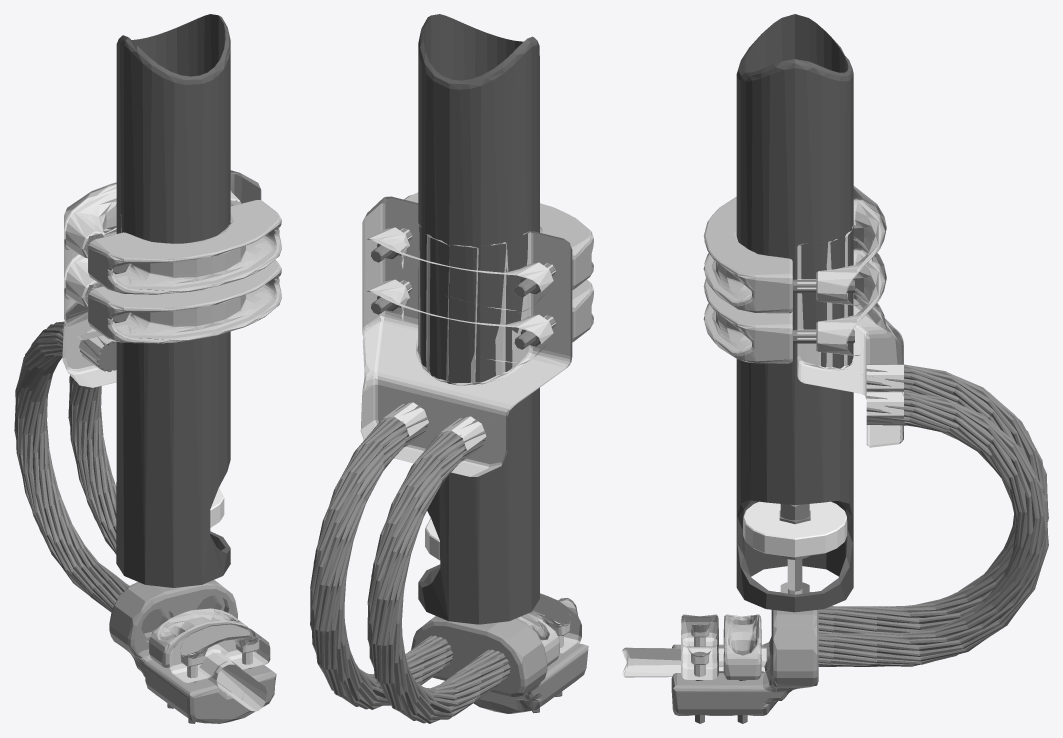
File: z9z0flexibletc1.gltf
3 renders of one model, left to right at view 1: azimuth 30°, elevation 25°; view 2: azimuth 150°, elevation 25°; view 3: azimuth 270°, elevation 25°, orthographic. The views are drawn at different scales.
Visible parts, largest first — view 1: Gt7Sj3Sa.001, Gt7Sj3Sa, Gt7Sj3Sa.003, Gt7Sj3Sa.004, Gt7Sj3Sa.006, Gt7Sj3Sa.002, Gt7Sj3Sa.008, Gt7Sj3Sa.007, Gt7Sj3Sa.009; view 2: Gt7Sj3Sa.001, Gt7Sj3Sa.002, Gt7Sj3Sa, Gt7Sj3Sa.006, Gt7Sj3Sa.003, Gt7Sj3Sa.008, Gt7Sj3Sa.004, Gt7Sj3Sa.007; view 3: Gt7Sj3Sa.001, Gt7Sj3Sa, Gt7Sj3Sa.002, Gt7Sj3Sa.006, Gt7Sj3Sa.003, Gt7Sj3Sa.005, Gt7Sj3Sa.004, Gt7Sj3Sa.007, Gt7Sj3Sa.008, Gt7Sj3Sa.009.
Part boxes in pixels (x1,y1,x2,y2): Gt7Sj3Sa.001: [116, 14, 230, 587]; Gt7Sj3Sa: [14, 200, 251, 723]; Gt7Sj3Sa.003: [88, 200, 281, 294]; Gt7Sj3Sa.004: [88, 260, 281, 343]; Gt7Sj3Sa.006: [109, 580, 276, 723]; Gt7Sj3Sa.002: [62, 170, 261, 387]; Gt7Sj3Sa.008: [169, 623, 270, 682]; Gt7Sj3Sa.007: [148, 608, 247, 667]; Gt7Sj3Sa.009: [216, 664, 266, 711]; Gt7Sj3Sa.001: [418, 14, 539, 624]; Gt7Sj3Sa.002: [360, 196, 572, 476]; Gt7Sj3Sa: [310, 228, 563, 723]; Gt7Sj3Sa.006: [411, 616, 588, 713]; Gt7Sj3Sa.003: [404, 192, 593, 290]; Gt7Sj3Sa.008: [528, 593, 581, 653]; Gt7Sj3Sa.004: [572, 279, 593, 342]; Gt7Sj3Sa.007: [517, 613, 559, 666]; Gt7Sj3Sa.001: [736, 14, 853, 612]; Gt7Sj3Sa: [693, 272, 1048, 723]; Gt7Sj3Sa.002: [797, 186, 903, 447]; Gt7Sj3Sa.006: [671, 592, 818, 715]; Gt7Sj3Sa.003: [703, 197, 792, 313]; Gt7Sj3Sa.005: [743, 501, 847, 557]; Gt7Sj3Sa.004: [703, 278, 792, 363]; Gt7Sj3Sa.007: [723, 614, 761, 679]; Gt7Sj3Sa.008: [681, 614, 718, 679]; Gt7Sj3Sa.009: [622, 647, 765, 677].
Bounding box in the file's own units: 0.4791 × 1.67 × 0.9617.
Materials: 7 (7 with a texture image).
